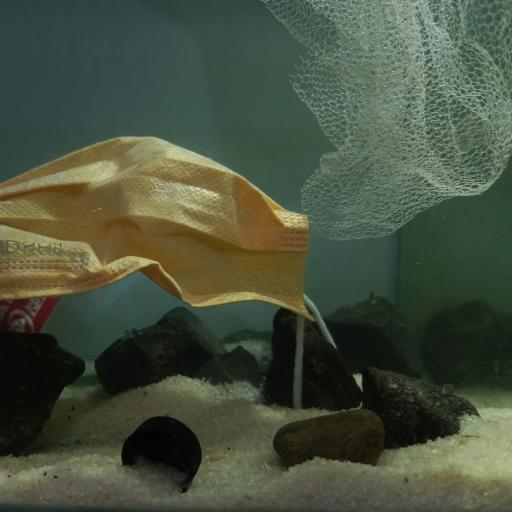bottle_cap: (124, 410, 206, 497)
mask: (2, 135, 317, 326)
net: (260, 0, 512, 245)
plastic_bottle: (9, 295, 144, 367)
